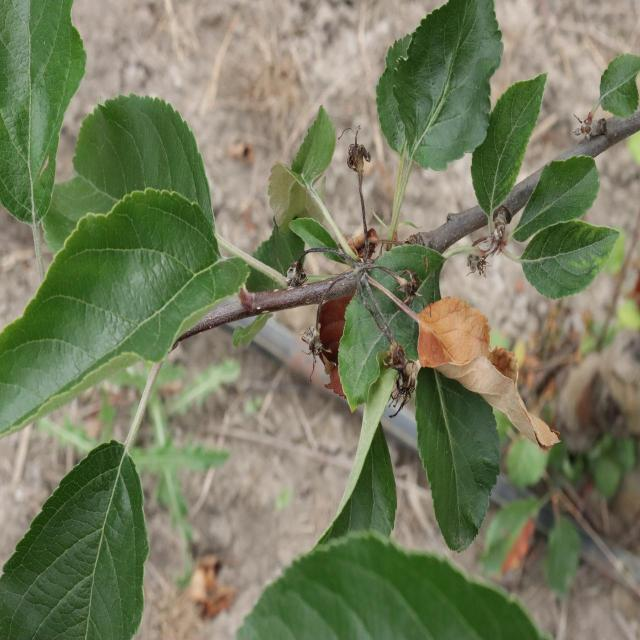-FireBlight-: (388, 287, 559, 456)
